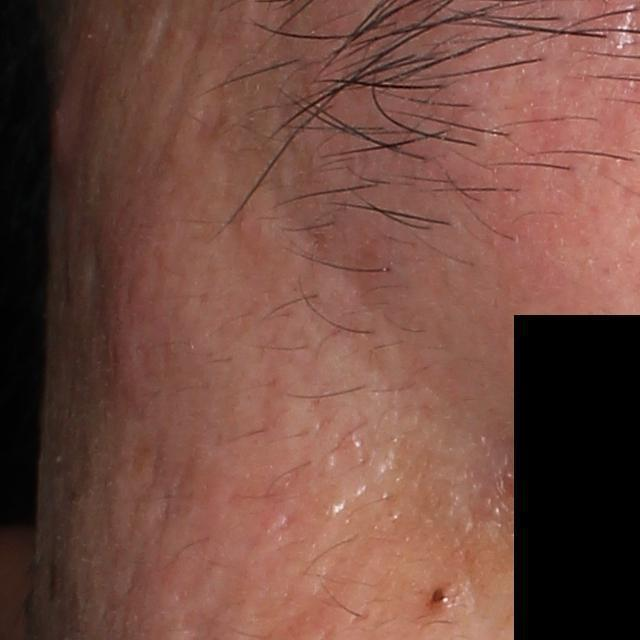nevus: (431, 585, 450, 604)
